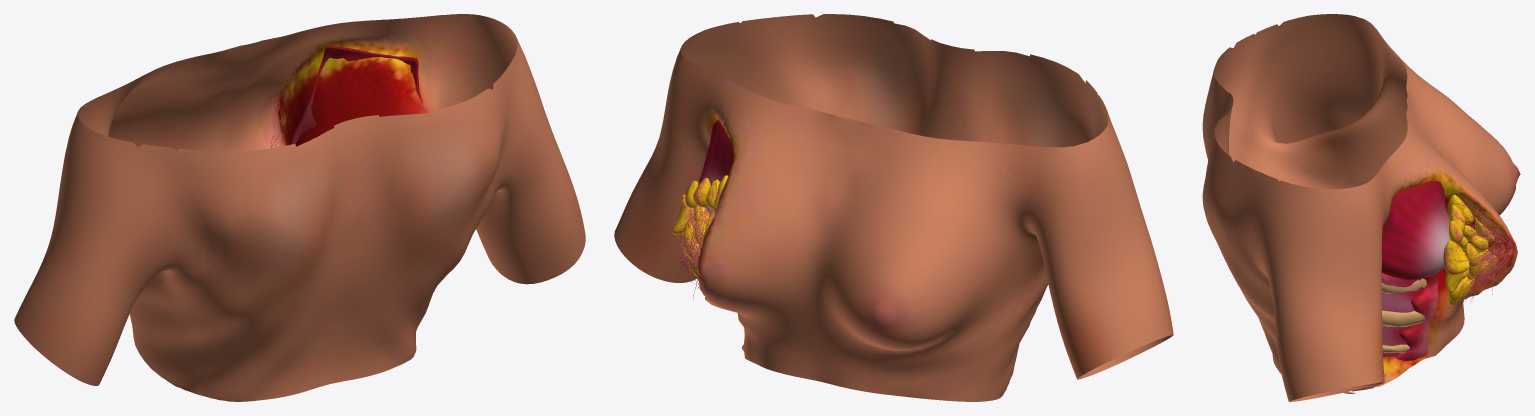
Rendered from mama_caso_002.glb.
The picture shows the model from 3 angles, left to right: view 1: azimuth 30°, elevation 25°; view 2: azimuth 150°, elevation 25°; view 3: azimuth 270°, elevation 25°; orthographic projection. The views are drawn at different scales.
Visible parts, largest first — view 1: Body_Julie2_0.001, Muscles_Extract1_0.001; view 2: Body_Julie2_0.001, Glands_Extract4_1_0.001, Ducts_Ducts5_0.001, Muscles_Extract1_0.001; view 3: Body_Julie2_0.001, Muscles_Extract1_0.001, Glands_Extract4_1_0.001, Ducts_Ducts5_0.001.
Boxes of the visible parts, x1=… form: Body_Julie2_0.001: x1=14, y1=14, x2=585, y2=401; Muscles_Extract1_0.001: x1=291, y1=46, x2=422, y2=144; Body_Julie2_0.001: x1=614, y1=14, x2=1173, y2=401; Glands_Extract4_1_0.001: x1=672, y1=175, x2=728, y2=280; Ducts_Ducts5_0.001: x1=674, y1=167, x2=719, y2=298; Muscles_Extract1_0.001: x1=698, y1=120, x2=733, y2=212; Body_Julie2_0.001: x1=1202, y1=14, x2=1520, y2=401; Muscles_Extract1_0.001: x1=1343, y1=180, x2=1450, y2=393; Glands_Extract4_1_0.001: x1=1443, y1=194, x2=1497, y2=305; Ducts_Ducts5_0.001: x1=1444, y1=192, x2=1513, y2=309.
Bounding box in the file's own units: 0.5294 × 0.2828 × 0.3122.
Materials: 5 (3 with a texture image).
